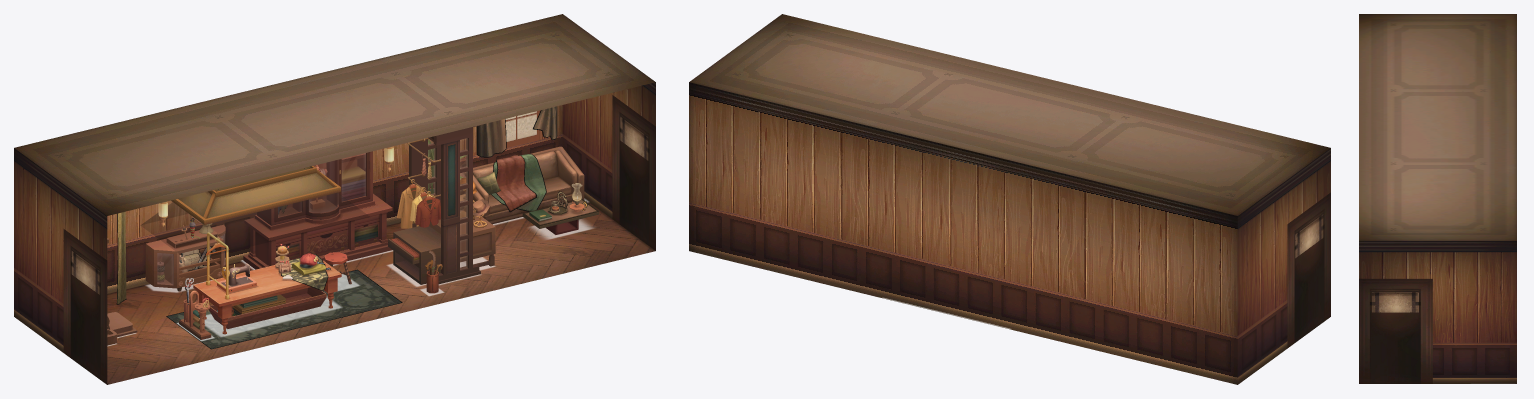
Rendered from tailorShop.glb.
3 renders of one model, left to right at view 1: azimuth 30°, elevation 25°; view 2: azimuth 150°, elevation 25°; view 3: azimuth 270°, elevation 25°, orthographic. The views are drawn at different scales.
Visible parts, largest first — view 1: ROOM_room, ROOM_floor, furni_tailorShop_wardrobe_01, furni_tailorShop_collectioncabinet_01, furni_tailorShop_ceilingLamp_light_01, furni_tailorShop_desk_01, furni_tailorShop_ceilingLamp_01, furni_tailorShop_carpet_01, furni_tailorShop_sofa_01, furni_tailorShop_comcabinet_01, furni_tailorShop_sofa_02, furni_tailorShop_wardrobe_03 (+14 smaller); view 2: ROOM_room, ROOM_LDoor; view 3: ROOM_room, ROOM_RDoor.
Part boxes in pixels (x1=…): ROOM_room: x1=14, y1=14, x2=655, y2=384; ROOM_floor: x1=107, y1=199, x2=655, y2=384; furni_tailorShop_wardrobe_01: x1=243, y1=151, x2=392, y2=269; furni_tailorShop_collectioncabinet_01: x1=388, y1=124, x2=495, y2=284; furni_tailorShop_ceilingLamp_light_01: x1=141, y1=193, x2=368, y2=260; furni_tailorShop_desk_01: x1=193, y1=232, x2=341, y2=334; furni_tailorShop_ceilingLamp_01: x1=171, y1=166, x2=340, y2=224; furni_tailorShop_carpet_01: x1=166, y1=269, x2=402, y2=349; furni_tailorShop_sofa_01: x1=460, y1=146, x2=584, y2=224; furni_tailorShop_comcabinet_01: x1=145, y1=217, x2=225, y2=291; furni_tailorShop_sofa_02: x1=491, y1=154, x2=546, y2=212; furni_tailorShop_wardrobe_03: x1=278, y1=153, x2=365, y2=216; ROOM_room: x1=689, y1=14, x2=1330, y2=384; ROOM_LDoor: x1=1298, y1=250, x2=1317, y2=340; ROOM_room: x1=1359, y1=14, x2=1516, y2=383; ROOM_RDoor: x1=1382, y1=319, x2=1414, y2=383.
Bounding box in the file's own units: 7.53 × 2.2 × 2.24.
8 materials, 8 textured.
